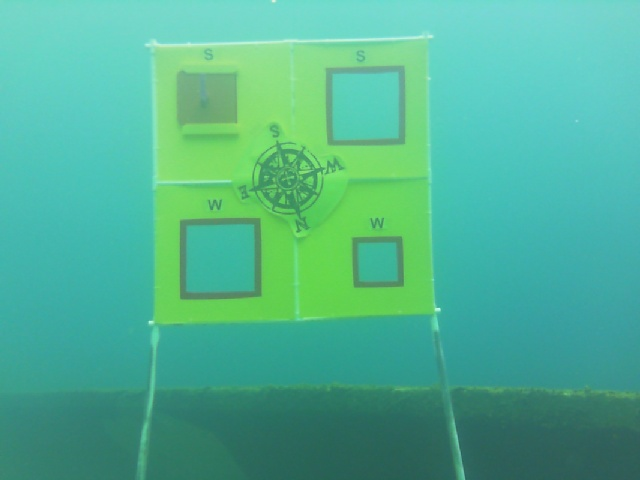torpedo_cover: (174, 69, 242, 134)
torpedo_hole: (319, 66, 405, 145), (177, 220, 264, 298), (177, 69, 248, 128), (349, 234, 408, 292)
torpedo_target: (141, 40, 448, 326)
